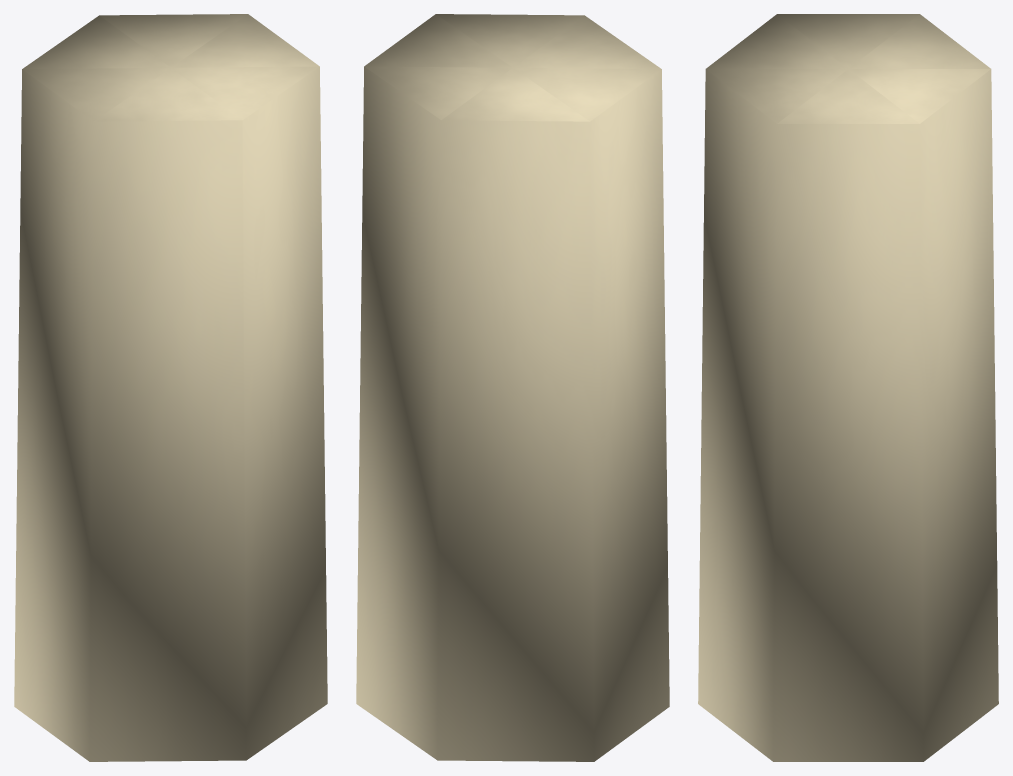
Rendered from Candle_2_LOD1.gltf.
The picture shows the model from 3 angles, left to right: view 1: azimuth 30°, elevation 25°; view 2: azimuth 150°, elevation 25°; view 3: azimuth 270°, elevation 25°; orthographic projection.
Visible parts, largest first — view 1: Candle_2_LOD1; view 2: Candle_2_LOD1; view 3: Candle_2_LOD1.
Part boxes in pixels (bbox=[...]): Candle_2_LOD1: bbox=[14, 14, 327, 761]; Candle_2_LOD1: bbox=[356, 14, 669, 761]; Candle_2_LOD1: bbox=[698, 14, 998, 761].
Size of the model in its own units: 0.0911 by 0.233 by 0.1.
1 material, 1 textured.
